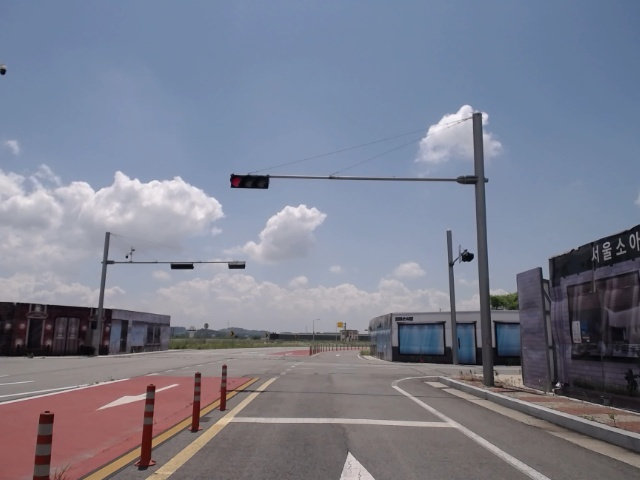red_3: (229, 175, 270, 189)
